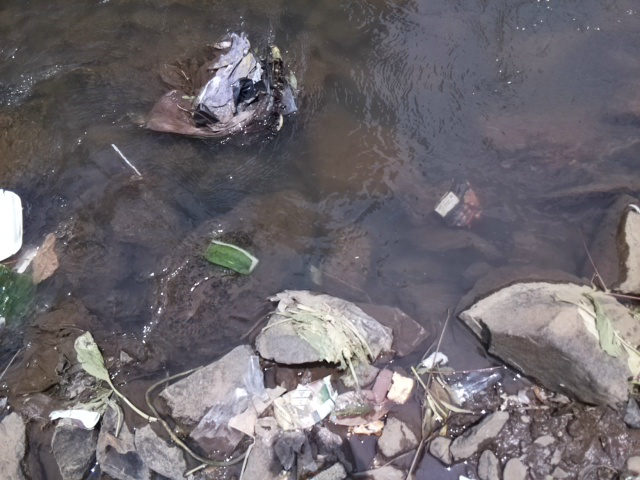Sampah_Plastik: (139, 35, 307, 156)
